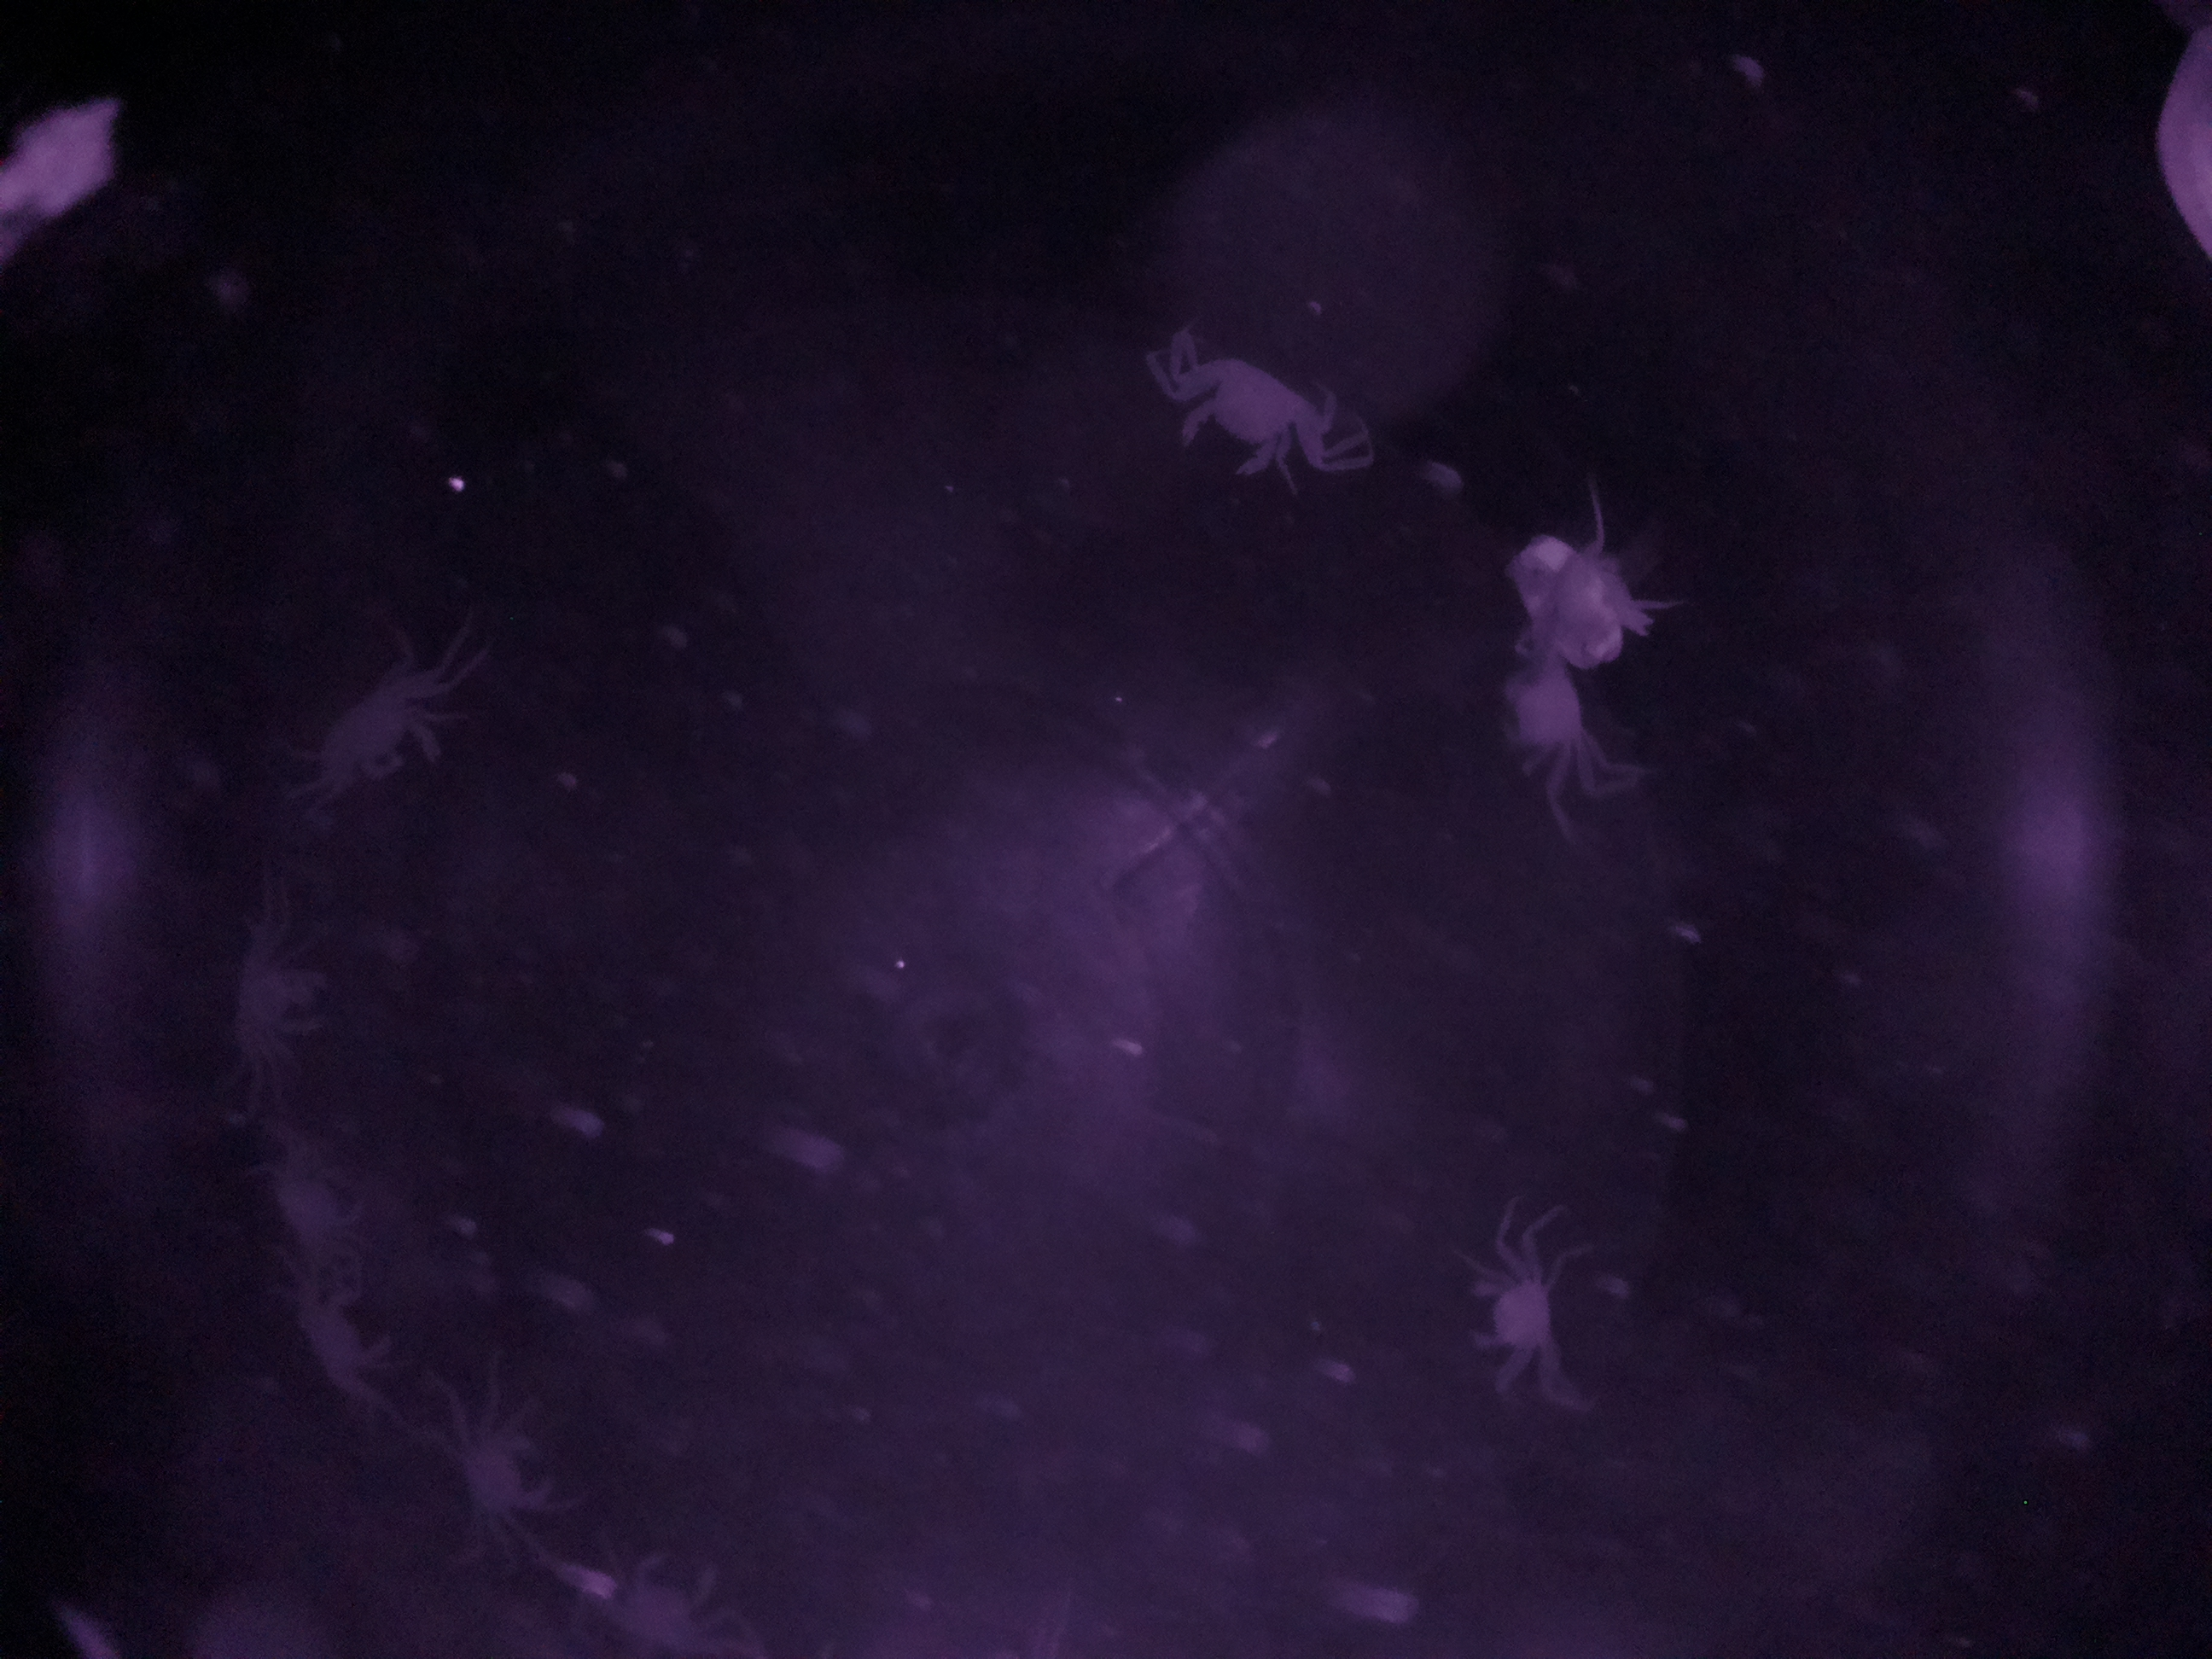Crab: (1472, 613, 1627, 823), (1155, 342, 1353, 495), (1446, 1234, 1587, 1392)
